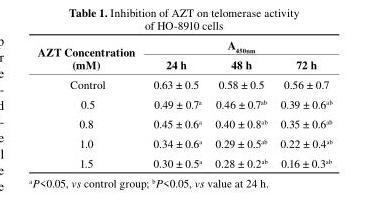table: (36, 36, 331, 170)
table column: (36, 36, 143, 170), (207, 36, 273, 170), (143, 36, 207, 170), (273, 36, 331, 170)
table column header: (36, 36, 331, 74)
table row: (36, 93, 331, 113), (36, 132, 331, 152), (36, 36, 331, 55), (36, 55, 331, 74), (36, 74, 331, 93), (36, 113, 331, 132), (36, 152, 331, 170)
table spanning cell: (36, 36, 143, 74), (143, 36, 331, 55)
